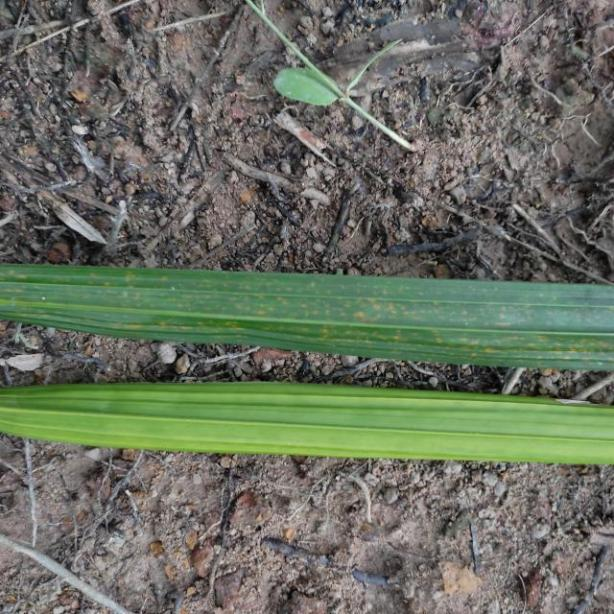nitrogen: (0, 256, 614, 369), (0, 377, 614, 467)
